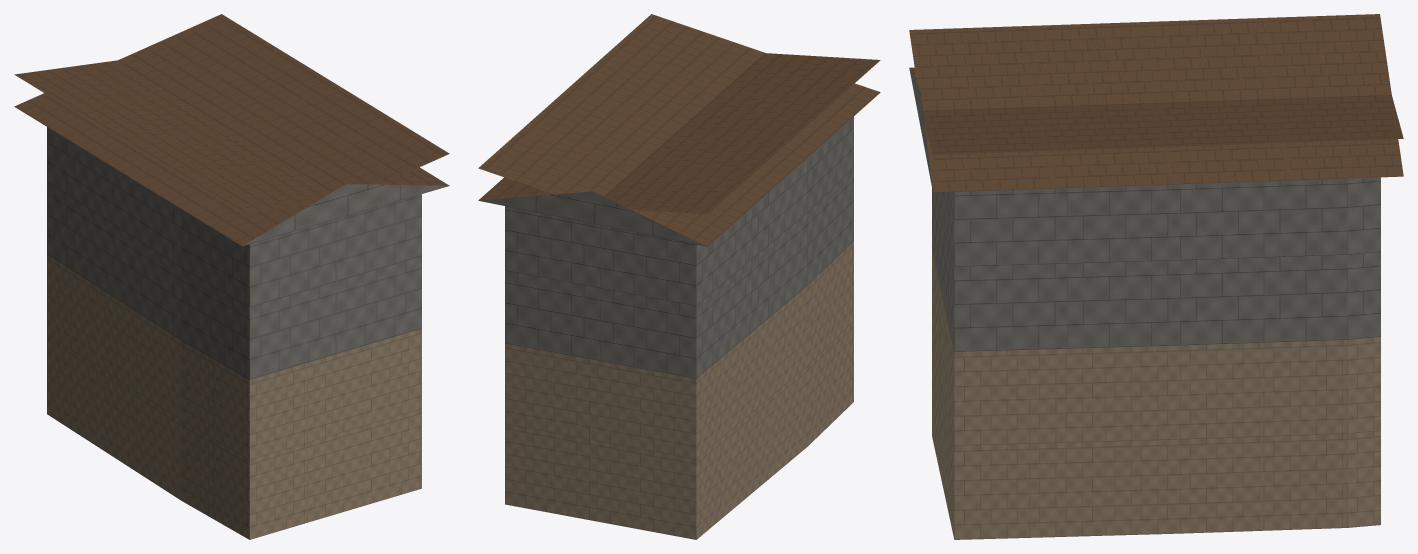
File: bld_c31_48_248.gltf
3 renders of one model, left to right at view 1: azimuth 30°, elevation 25°; view 2: azimuth 150°, elevation 25°; view 3: azimuth 270°, elevation 25°, orthographic. The views are drawn at different scales.
Parts seen in each view (by area): view 1: bld_c31_48_248; view 2: bld_c31_48_248; view 3: bld_c31_48_248.
Part boxes in pixels (x1,y1,x2,y2): bld_c31_48_248: [14, 14, 449, 539]; bld_c31_48_248: [478, 14, 880, 539]; bld_c31_48_248: [909, 14, 1403, 539].
Bounding box in the file's own units: 8.01 × 10.5 × 11.89.
4 materials, 4 textured.
